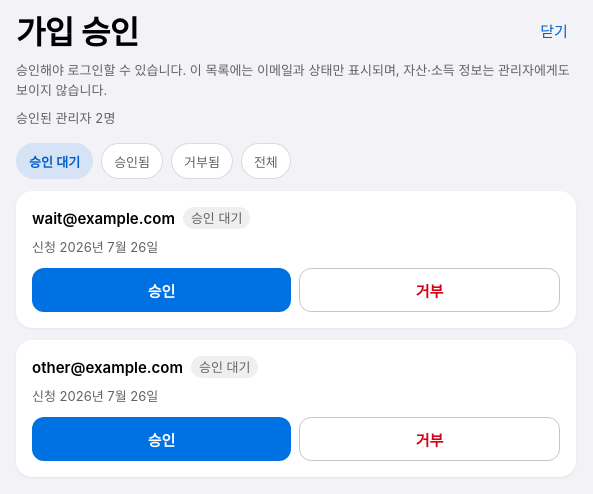
Test: 승인 · 거부 › 승인하면 목록에서 빠지고 결과를 알린다
This screenshot has width=593, height=494.
Click the button with aria-label "wait@example.com 승인".
click(162, 290)  # box 32,268 -> 291,312
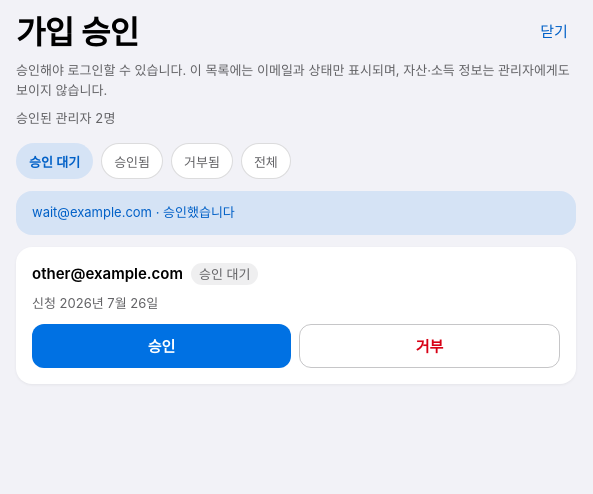
Expected: the text "other@example.com" is shown, 32,264 -> 183,283
Result: the message shows "승인했습니다" at 32,204 -> 235,220
